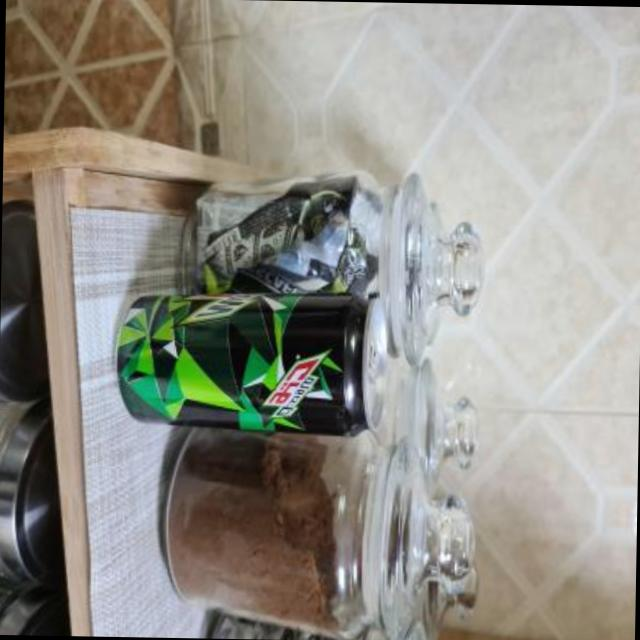metal: (117, 292, 388, 433)
